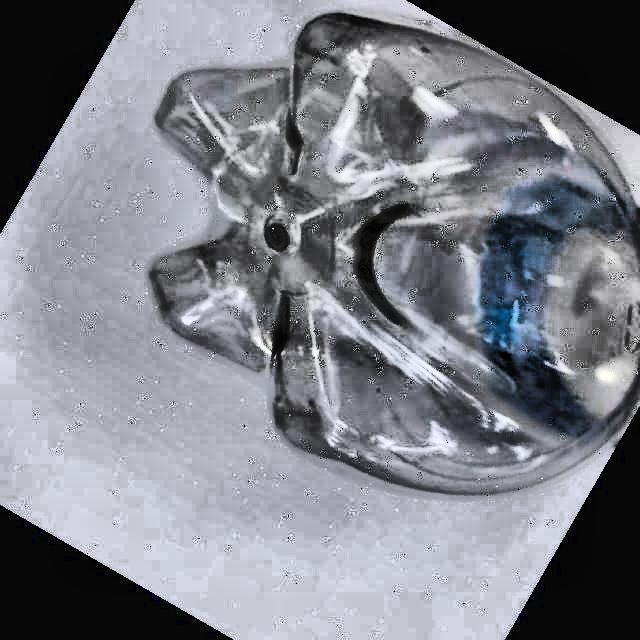plastic: (150, 14, 640, 494)
